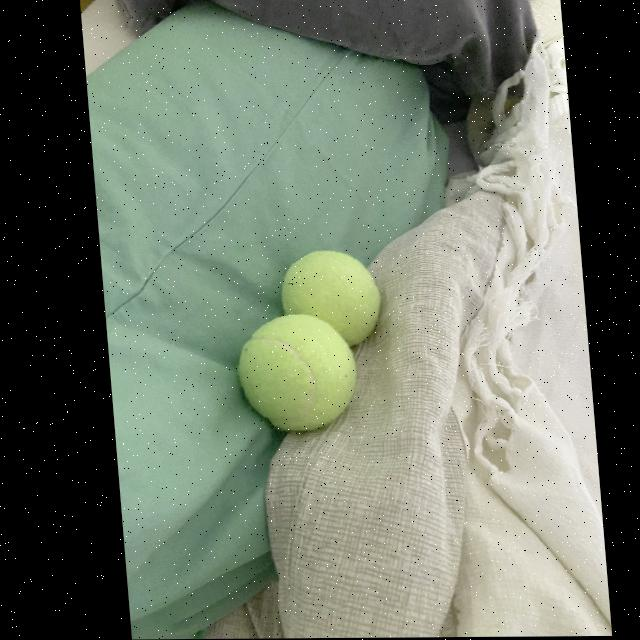Tennisball: (238, 314, 356, 431), (282, 251, 380, 347)
